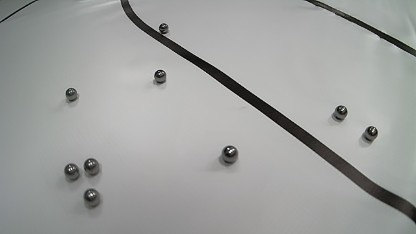ironball: (83, 188, 100, 207), (221, 145, 238, 163), (83, 157, 99, 175), (64, 163, 79, 180), (332, 105, 347, 120), (363, 126, 377, 141), (154, 69, 166, 83), (65, 88, 77, 101), (158, 23, 169, 33)
